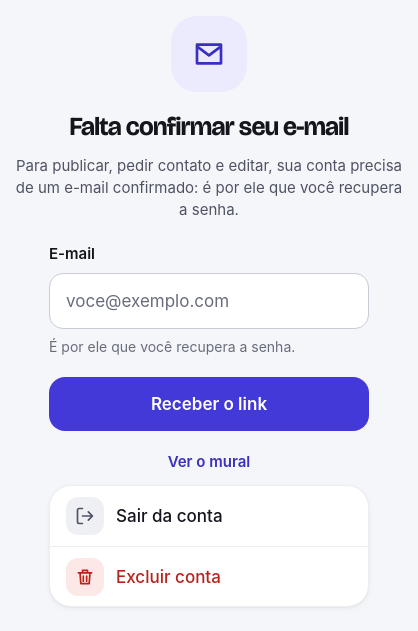
HeldAccountScreen (D-168) › shows why sign-out failed instead of dropping the refusal
The width and height of the screenshot is (418, 631).
What coordinates should you click on to do the following:
click the button "Sair da conta"
I would click on:
 (209, 516)
Its box is x1=50 y1=486 x2=368 y2=546.
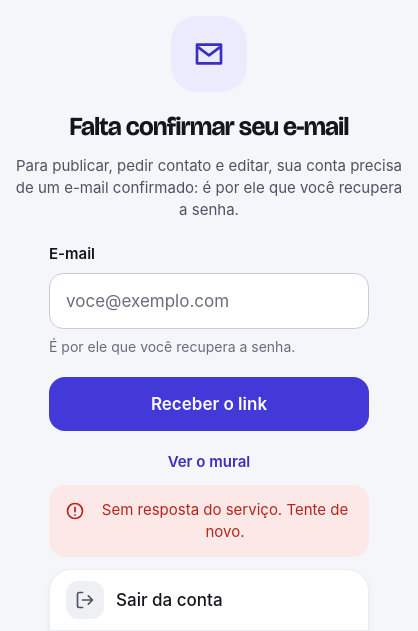
Expected: the message reads "Sem resposta do serviço. Tente de novo.", x1=102 y1=500 x2=348 y2=541
